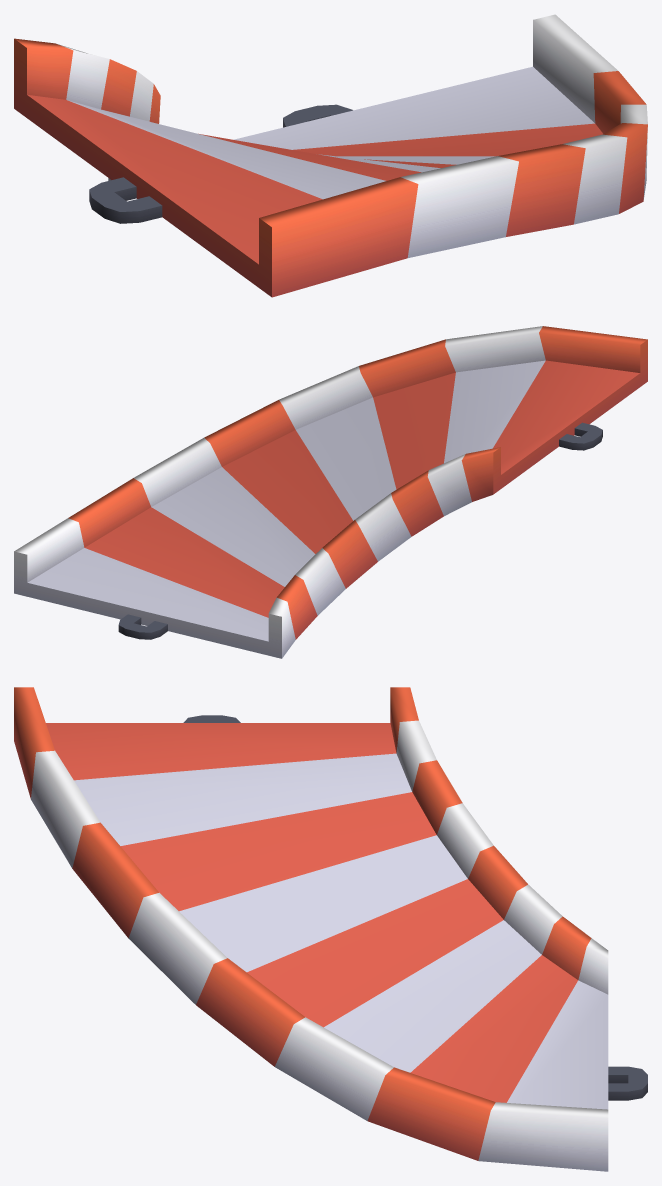
Rendered from kenney-toy-car-track-striped-wide-corner-small-ramp.glb.
The picture shows the model from 3 angles, top to bottom: view 1: azimuth 30°, elevation 25°; view 2: azimuth 150°, elevation 25°; view 3: azimuth 270°, elevation 25°; orthographic projection. The views are drawn at different scales.
Parts seen in each view (by area): view 1: track-striped-wide-corner-small-ramp; view 2: track-striped-wide-corner-small-ramp; view 3: track-striped-wide-corner-small-ramp.
Boxes of the visible parts, x1,y1,x2,y2 form: track-striped-wide-corner-small-ramp: (14,14,647,297); track-striped-wide-corner-small-ramp: (14,326,647,658); track-striped-wide-corner-small-ramp: (14,687,647,1171).
Bounding box in the file's own units: 3.2 × 1.3 × 3.2.
Materials: 1 (1 with a texture image).
